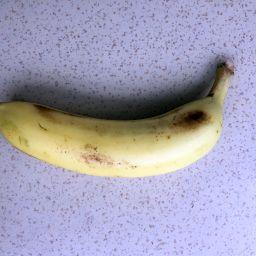Banana Ripe: (0, 67, 247, 208)
